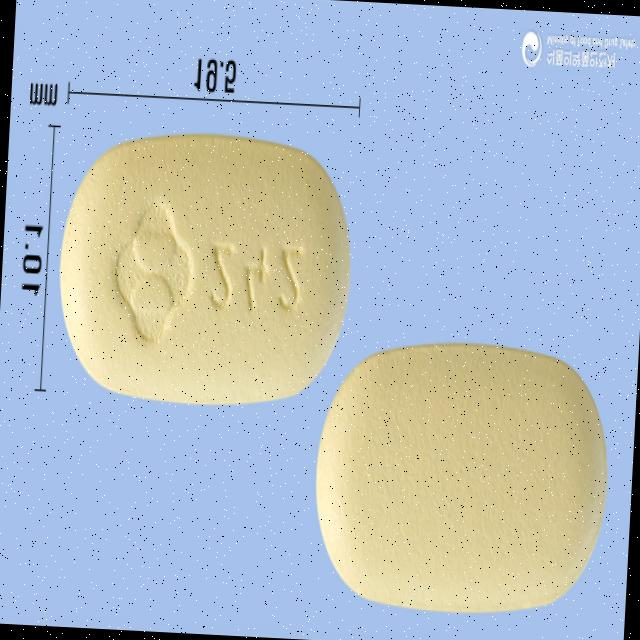Isentress: (53, 126, 359, 414)
